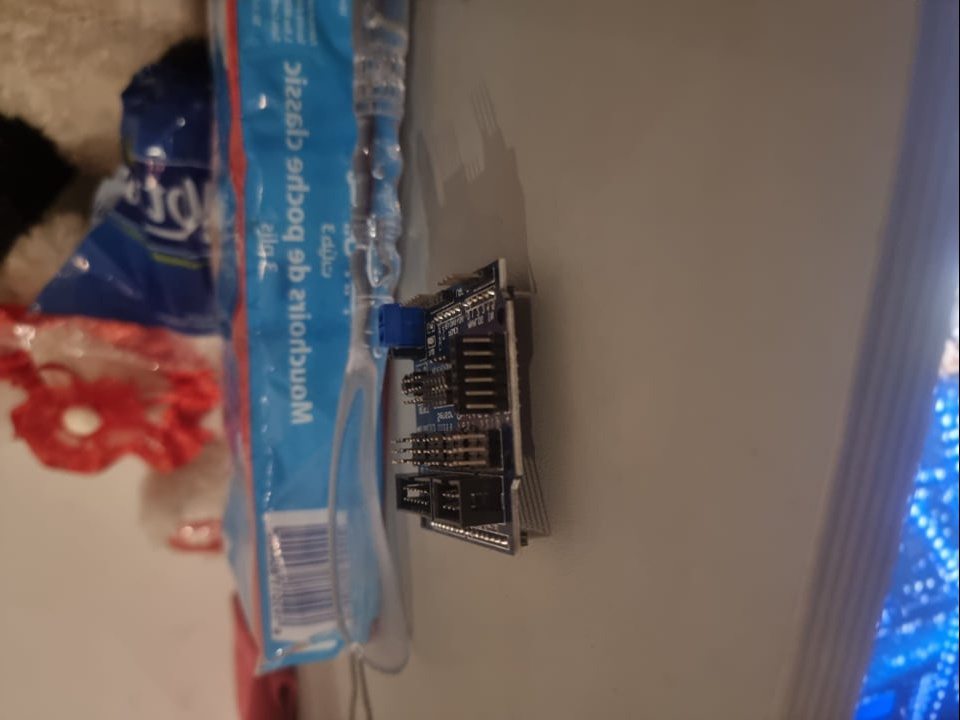5V EXPANSION: (377, 258, 525, 559)
